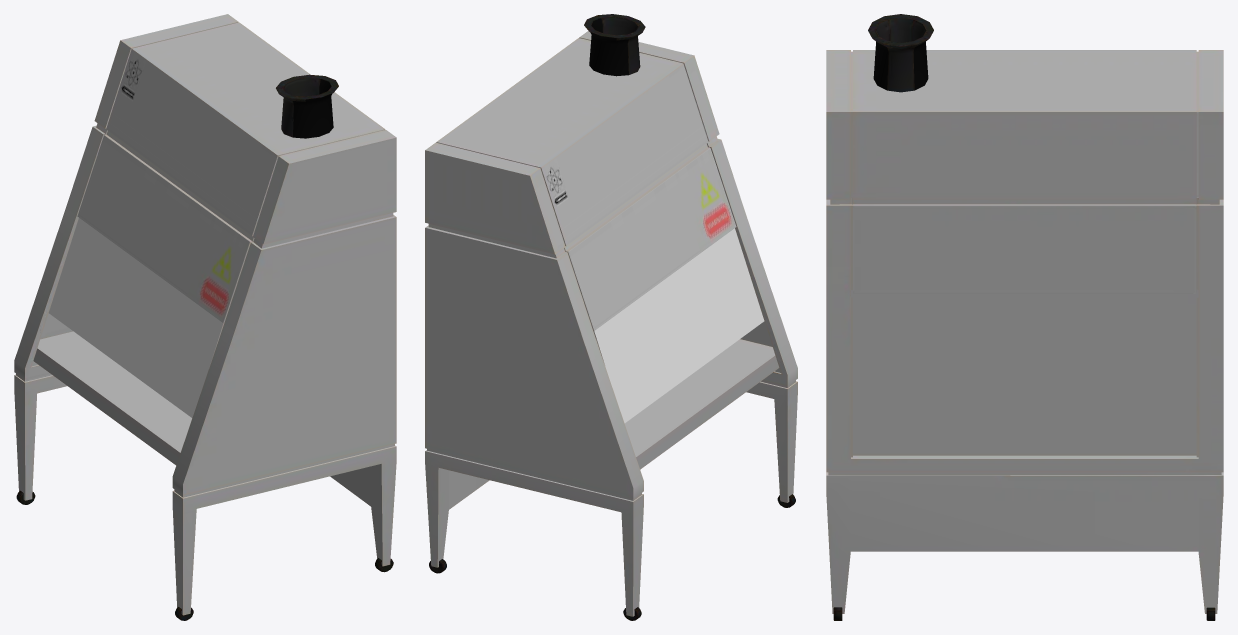
Rendered from PRP_PCRMachine.glb.
3 renders of one model, left to right at view 1: azimuth 30°, elevation 25°; view 2: azimuth 150°, elevation 25°; view 3: azimuth 270°, elevation 25°, orthographic. The views are drawn at different scales.
Parts seen in each view (by area): view 1: Lab_Machine_Metal_0, Lab_Machine_Glass_0; view 2: Lab_Machine_Metal_0, Lab_Machine_Glass_0; view 3: Lab_Machine_Metal_0.
Boxes of the visible parts, x1,y1,x2,y2 form: Lab_Machine_Metal_0: [14, 14, 396, 620]; Lab_Machine_Glass_0: [48, 218, 223, 417]; Lab_Machine_Metal_0: [425, 14, 797, 620]; Lab_Machine_Glass_0: [594, 228, 764, 423]; Lab_Machine_Metal_0: [826, 14, 1223, 620].
Size of the model in its own units: 0.9897 by 2.09 by 1.34.
2 materials, 1 textured.
